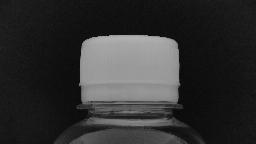Good Cap: (72, 32, 186, 114)
